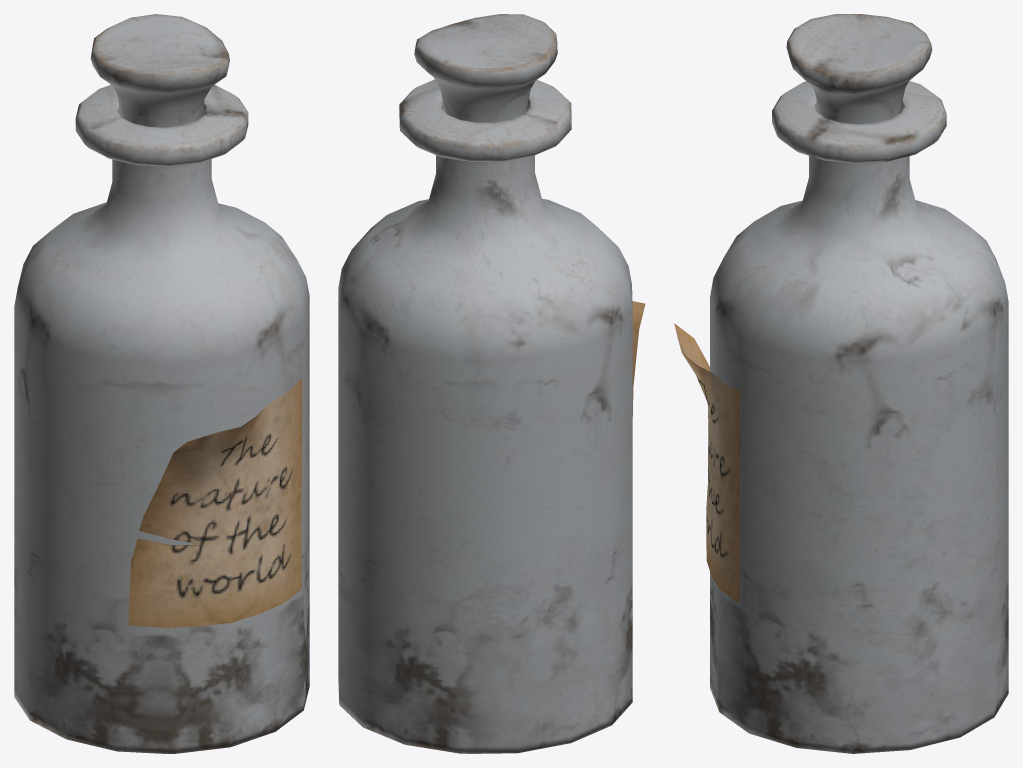
Rendered from Bottle04.fbx.
3 views of the same model, side by side, from view 1: azimuth 30°, elevation 25°; view 2: azimuth 150°, elevation 25°; view 3: azimuth 270°, elevation 25° (orthographic).
Visible parts, largest first — view 1: KuJ AL Bottle 04.Shape; view 2: KuJ AL Bottle 04.Shape; view 3: KuJ AL Bottle 04.Shape.
Part boxes in pixels (x1=…): KuJ AL Bottle 04.Shape: x1=14, y1=14, x2=309, y2=753; KuJ AL Bottle 04.Shape: x1=338, y1=14, x2=645, y2=753; KuJ AL Bottle 04.Shape: x1=674, y1=14, x2=1008, y2=753.
Bounding box in the file's own units: 12.91 × 31.47 × 14.46.
3 materials, 2 textured.
